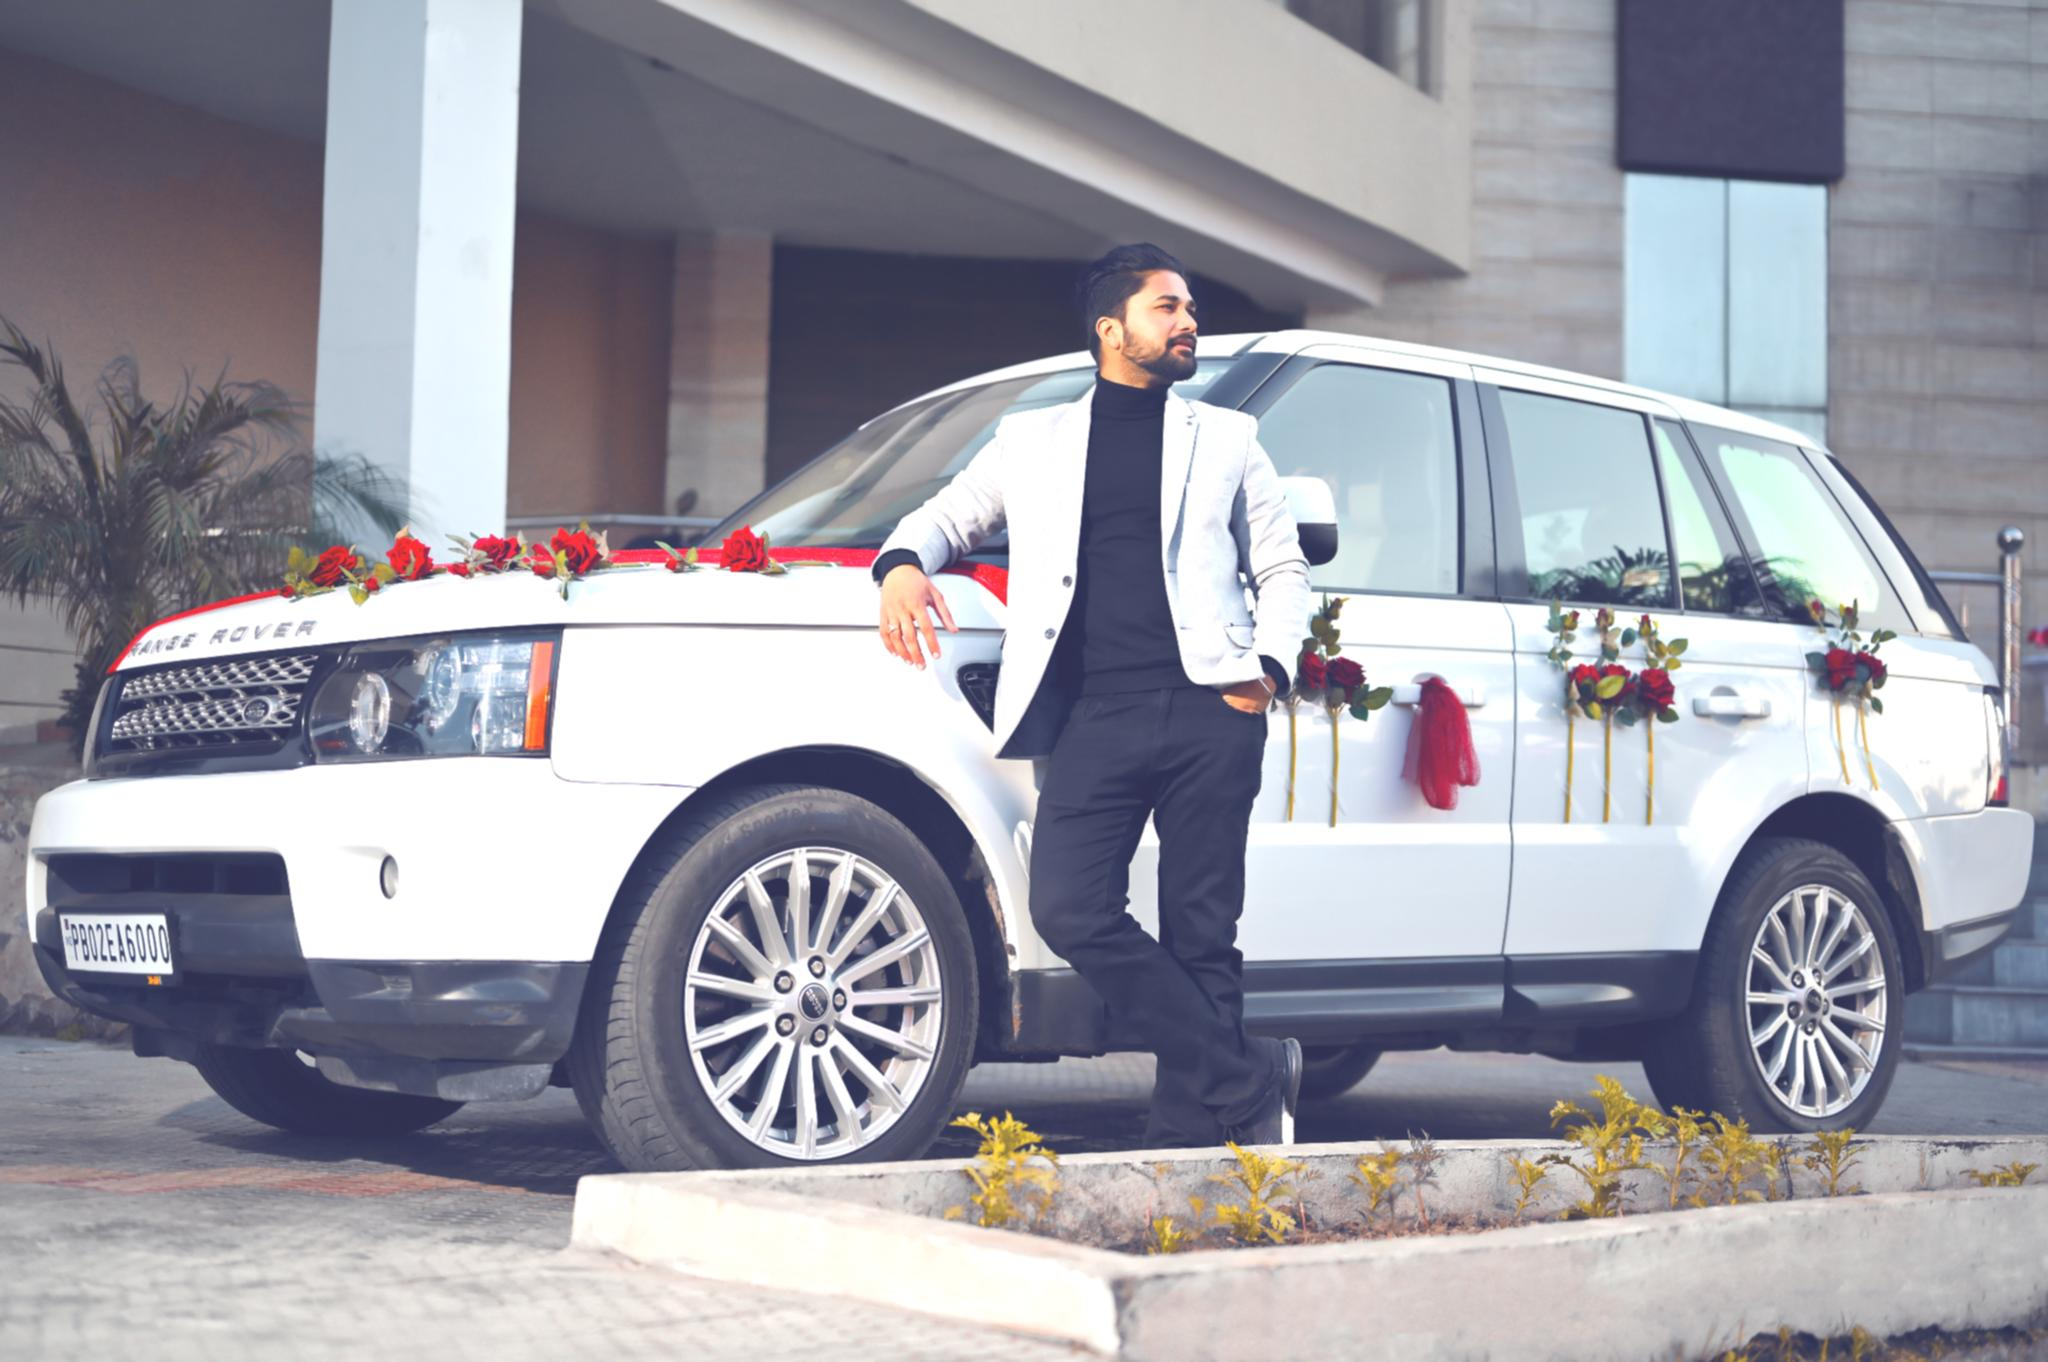range rover: (109, 599, 339, 669)
